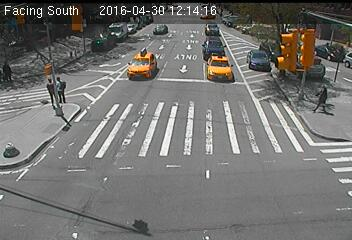neg: (198, 101, 223, 134), (246, 167, 269, 198), (103, 153, 126, 183), (133, 98, 154, 125), (251, 127, 271, 154), (289, 31, 309, 58), (305, 171, 324, 197), (56, 188, 74, 212), (6, 136, 24, 159), (95, 91, 112, 114), (211, 51, 228, 73), (196, 178, 213, 200), (251, 48, 267, 69), (138, 46, 152, 66), (133, 212, 147, 230), (135, 179, 148, 198)
pos: (314, 82, 336, 112), (35, 76, 57, 105), (52, 73, 73, 100), (1, 56, 22, 83)
